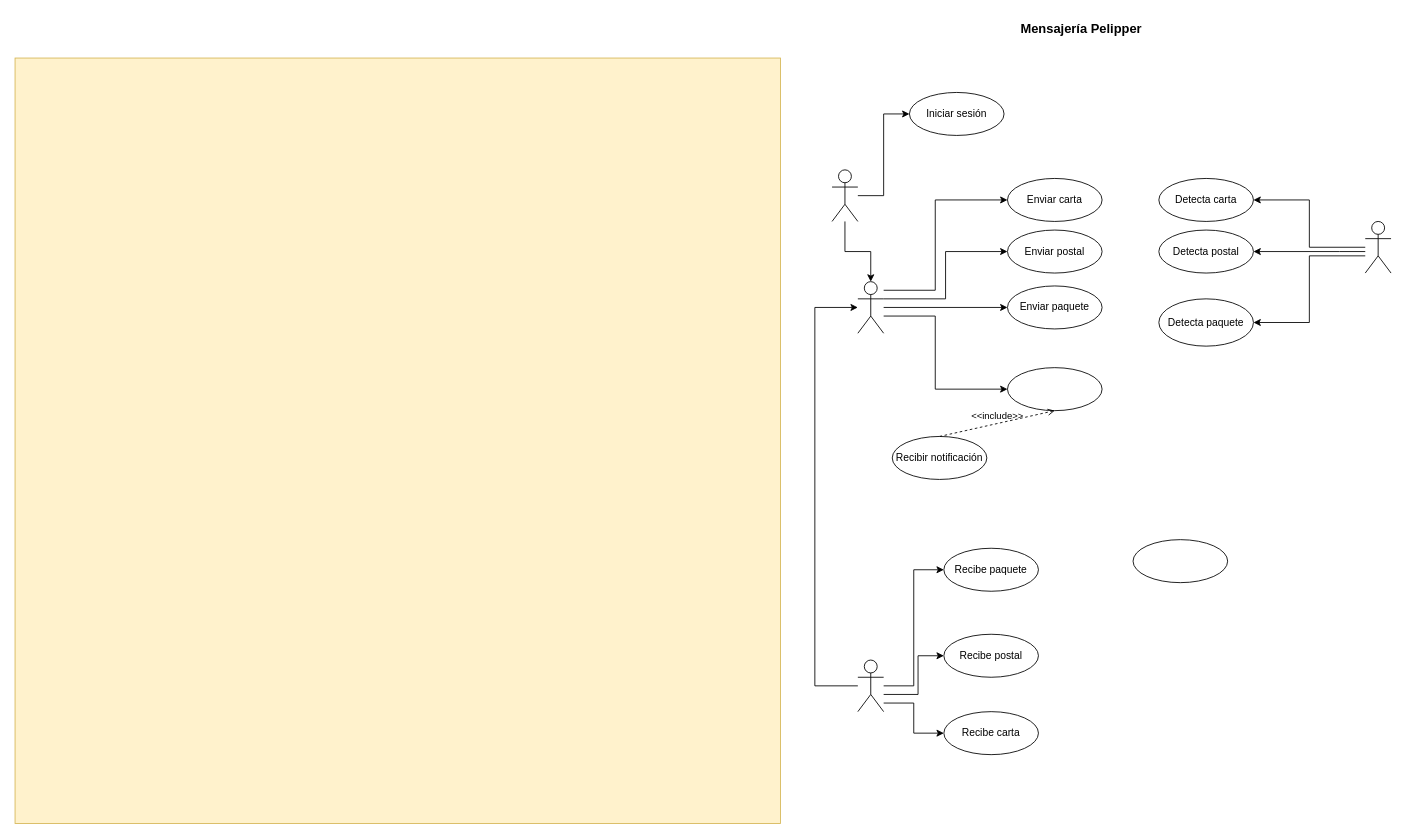
The diagram is 1411 pixels wide and 839 high, and some of its shapes have lost their labels. Each missing label, with the centre of its shape:
"Clasificar por id" belongs at point 1180,561.
"Mensajero" belongs at point 870,685.
"Recibir mensaje" belongs at point 1054,389.
"Sistema" belongs at point 1377,247.
"Usuario" belongs at point 870,307.
"Usuario no registrado" belongs at point 844,195.
